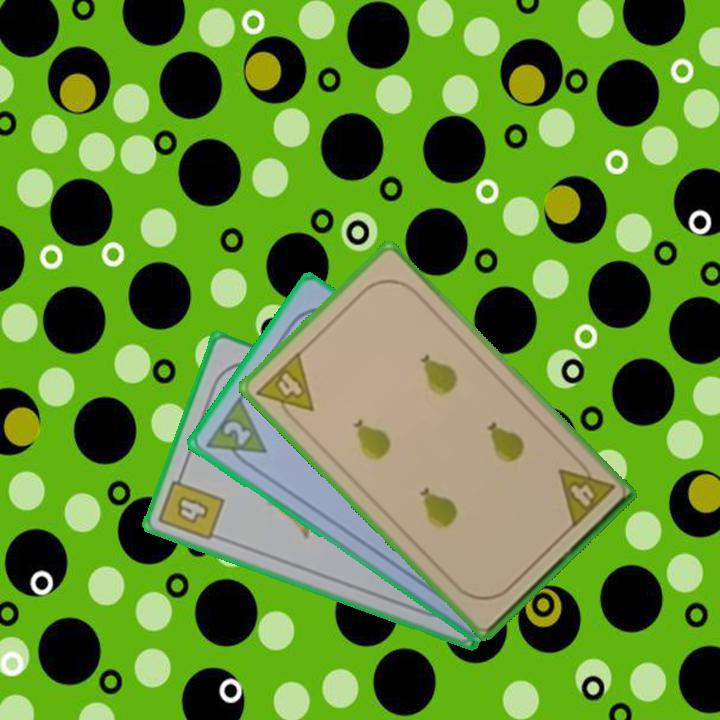2p: (201, 394, 269, 473)
4b: (155, 467, 227, 544)
4p: (252, 348, 317, 429), (554, 453, 617, 531)
